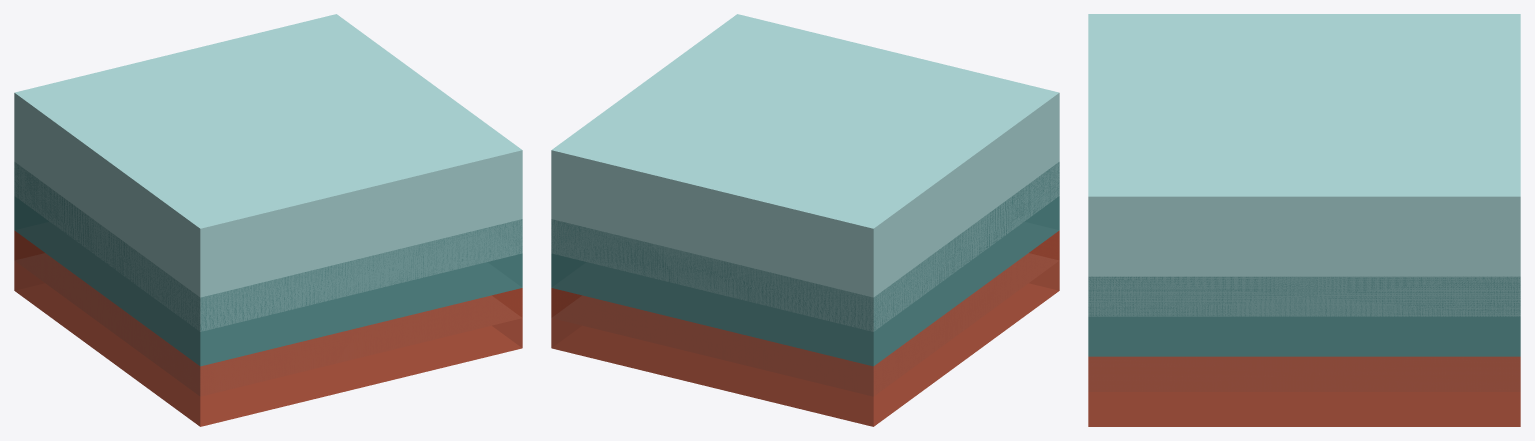
File: BaseTile.dae
3 renders of one model, left to right at view 1: azimuth 30°, elevation 25°; view 2: azimuth 150°, elevation 25°; view 3: azimuth 270°, elevation 25°, orthographic. The views are drawn at different scales.
Parts seen in each view (by area): view 1: group_0 (×5); view 2: group_0 (×5); view 3: group_0 (×5).
Part boxes in pixels (x1,y1,x2,y2): group_0 (×5): (14,14,522,426); group_0 (×5): (551,14,1059,426); group_0 (×5): (1088,14,1520,426).
Bounding box in the file's own units: 283 × 283 × 166.
